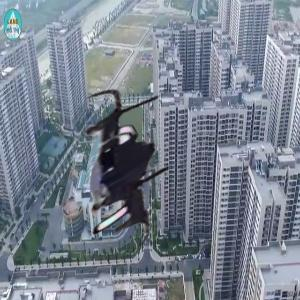drone: (38, 85, 210, 257)
